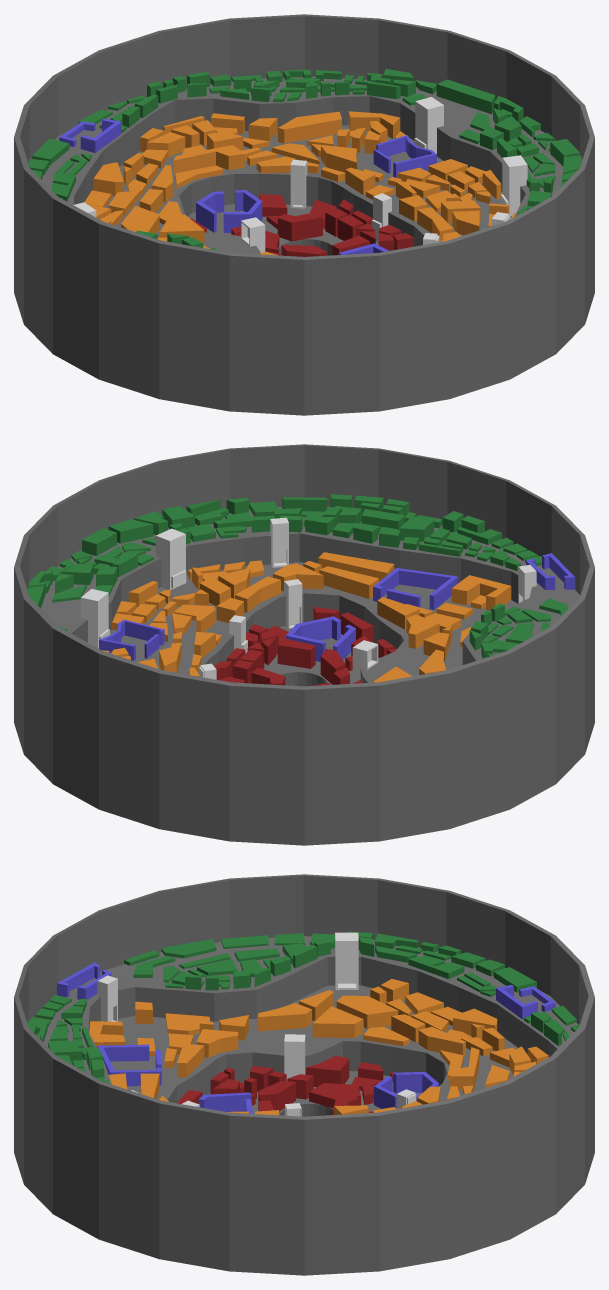
The model's file is P_JPO_Bowl.fbx.
The picture shows the model from 3 angles, top to bottom: view 1: azimuth 30°, elevation 25°; view 2: azimuth 150°, elevation 25°; view 3: azimuth 270°, elevation 25°; orthographic projection.
Parts seen in each view (by area): view 1: M_New_Bowl, M_Buildings_Second_Floor, M_Buildings_First_Floor, M_Buildings_Third_Floor, M_Elevator, M_Hearts; view 2: M_New_Bowl, M_Buildings_First_Floor, M_Buildings_Second_Floor, M_Elevator, M_Hearts, M_Buildings_Third_Floor; view 3: M_New_Bowl, M_Buildings_Second_Floor, M_Buildings_First_Floor, M_Hearts, M_Buildings_Third_Floor, M_Elevator.
Boxes of the visible parts, x1,y1,x2,y2 form: M_New_Bowl: (14, 14, 594, 415); M_Buildings_Second_Floor: (84, 111, 515, 255); M_Buildings_First_Floor: (28, 68, 582, 250); M_Buildings_Third_Floor: (190, 194, 413, 256); M_Elevator: (73, 97, 527, 252); M_Hearts: (59, 118, 436, 255); M_New_Bowl: (14, 444, 594, 845); M_Buildings_First_Floor: (27, 494, 567, 658); M_Buildings_Second_Floor: (102, 552, 511, 682); M_Elevator: (80, 517, 536, 682); M_Hearts: (99, 553, 575, 661); M_Buildings_Third_Floor: (214, 607, 396, 685); M_New_Bowl: (14, 874, 594, 1275); M_Buildings_Second_Floor: (89, 979, 548, 1115); M_Buildings_First_Floor: (27, 931, 579, 1083); M_Hearts: (57, 962, 555, 1113); M_Buildings_Third_Floor: (177, 1055, 395, 1116); M_Elevator: (97, 932, 416, 1116).
Size of the model in its own units: 90000 by 26766 by 90000.
